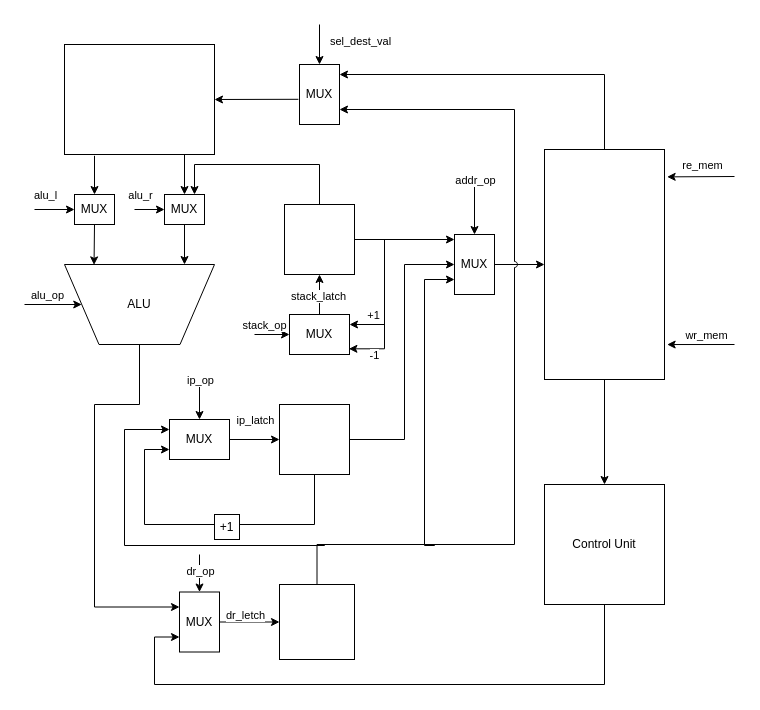
The diagram is 760 pixels wide and 710 high, and some of its shapes have lost their labels. The shapes that lost their labels are listed below. From the top down, each one's centre as x and y in pixels, then its label:
(x=139, y=99): REGISTERS
(x=319, y=239): SP
(x=604, y=264): MEMORY + I/O
(x=314, y=439): PC
(x=316, y=622): DR
